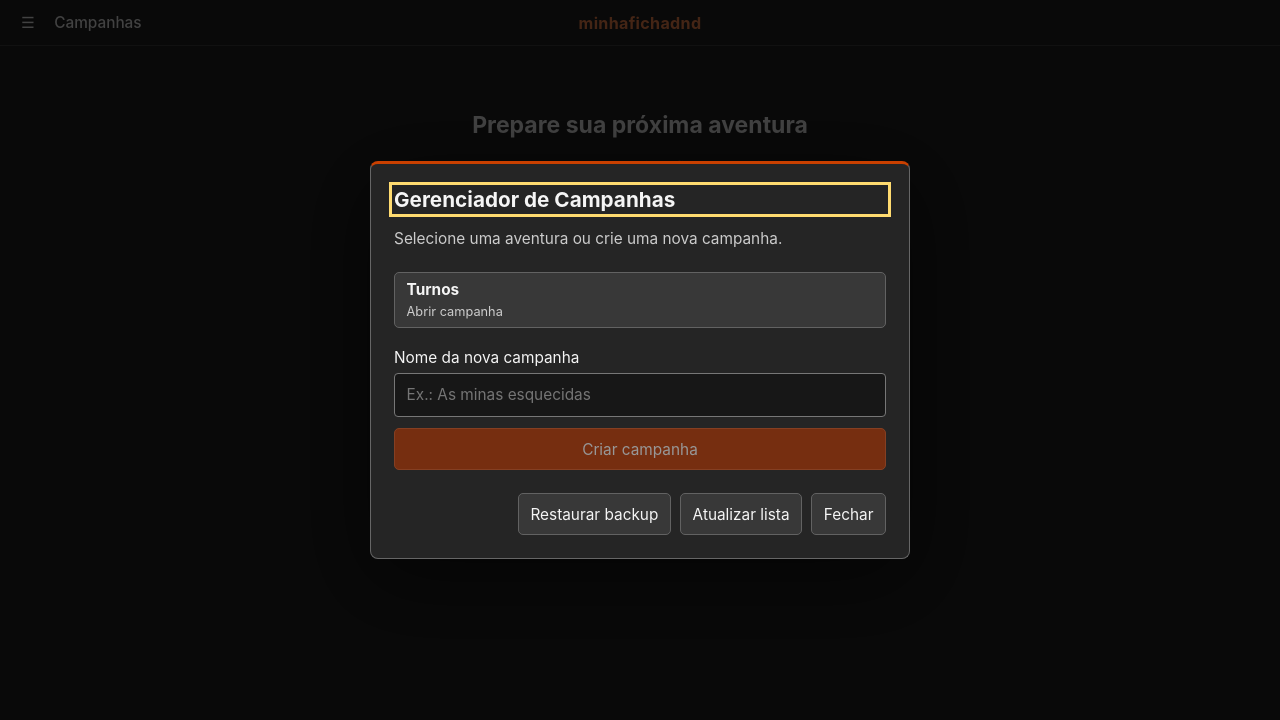
Scenario: execução integrada no workspace › dois combates ativos exigem escolha explícita e trocar a barra não muda a execução
Click the button "Abrir campanha Turnos". click: (433, 290)
box: [394, 272, 886, 328]
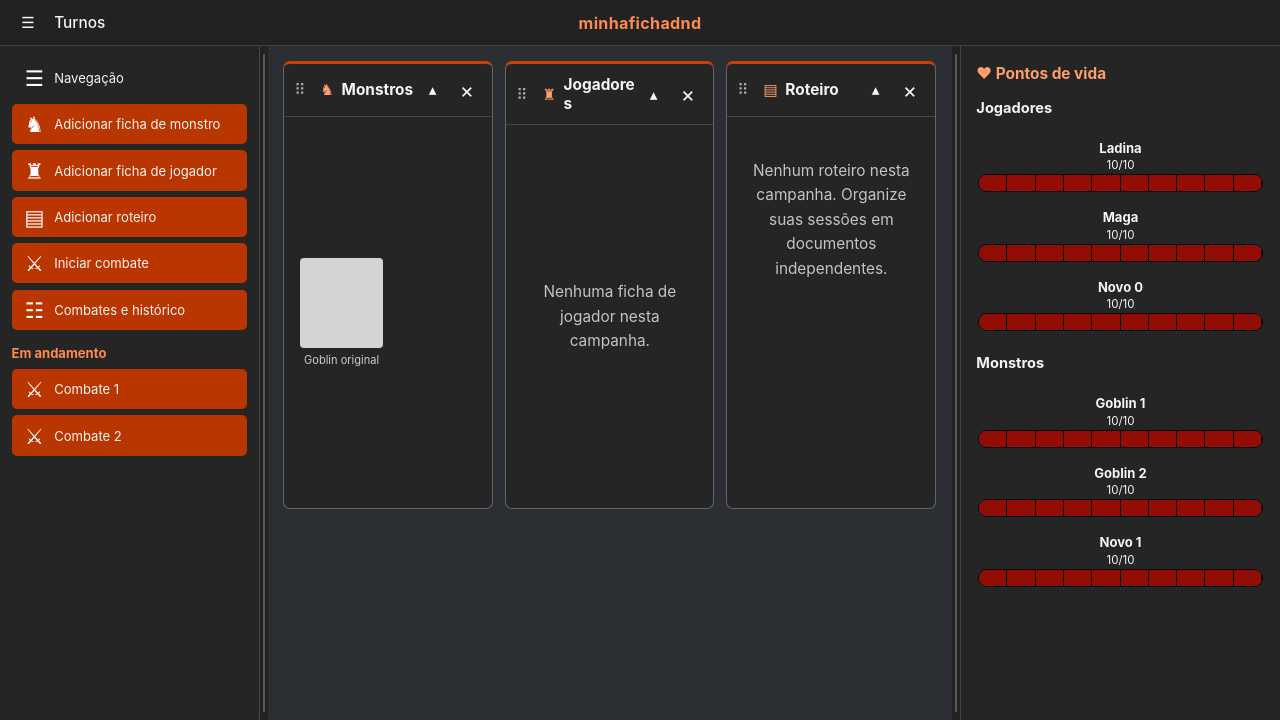
Expected: the button with aria-label "Retomar combate 2" is shown
Click the button with aria-label "Retomar combate 2". click: (130, 436)
box: [12, 415, 248, 456]
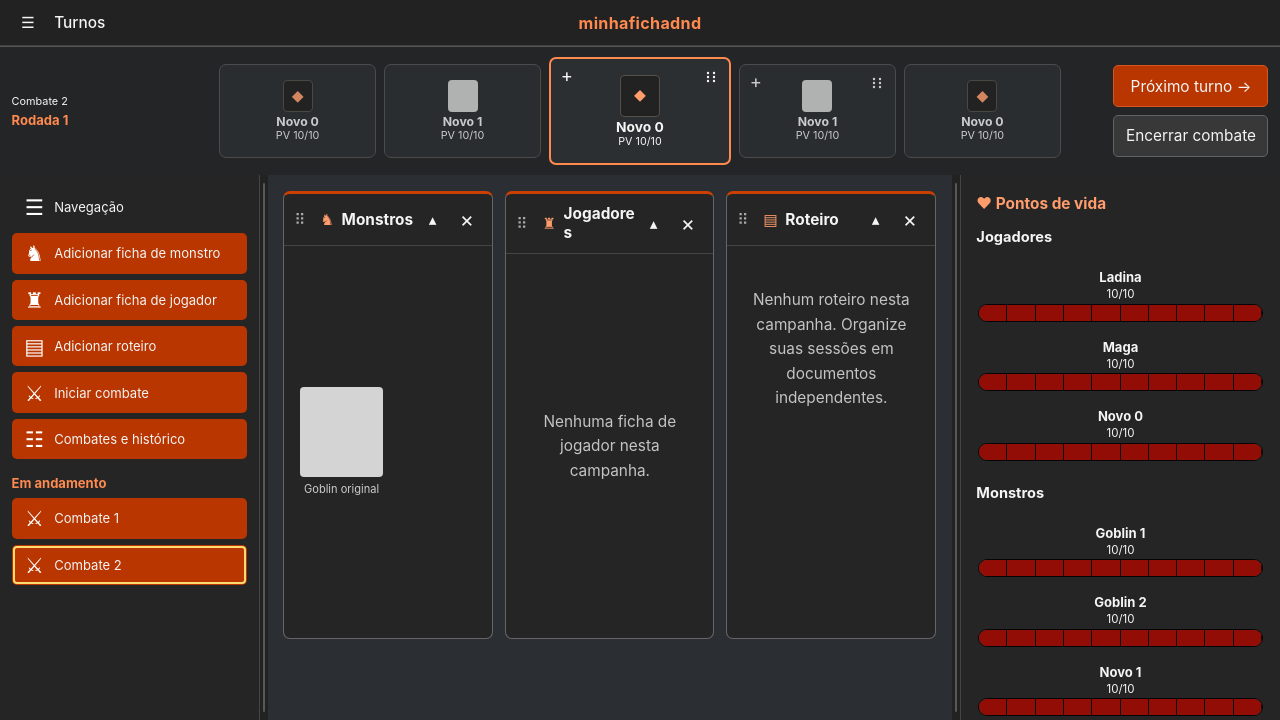
Expected: the button with aria-label "Abrir participante Novo 0" is shown, [551, 59, 729, 163]
Click the button with aria-label "Retomar combate 1". click: (130, 518)
box: [12, 498, 248, 538]
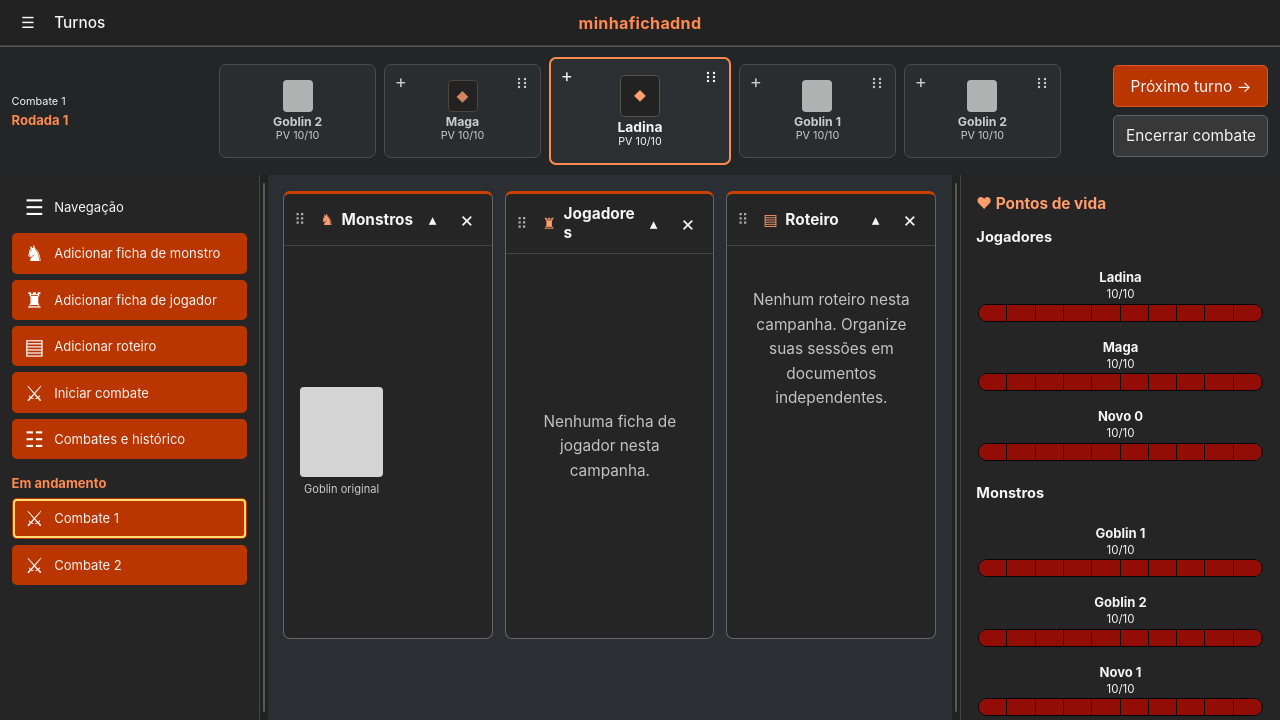
Expected: the button with aria-label "Abrir participante Ladina" is shown, [551, 59, 729, 163]
